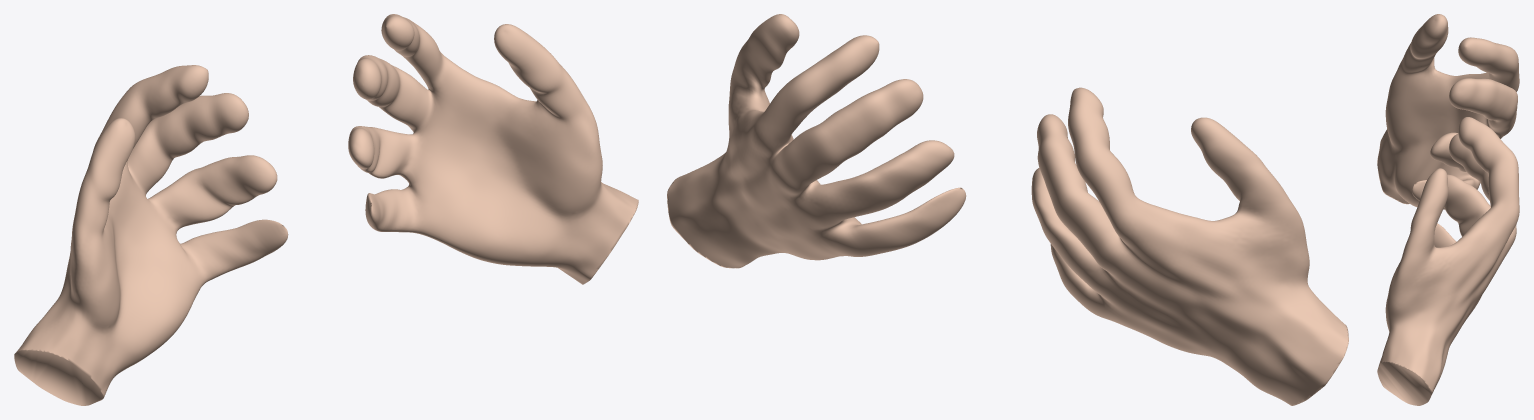
File: hands_flesh.glb
3 renders of one model, left to right at view 1: azimuth 30°, elevation 25°; view 2: azimuth 150°, elevation 25°; view 3: azimuth 270°, elevation 25°, orthographic. The views are drawn at different scales.
Parts seen in each view (by area): view 1: HandL, HandR; view 2: HandR, HandL; view 3: HandL, HandR.
Part boxes in pixels (left/top/right/bottom): HandL: left=348, top=14, right=638, bottom=284; HandR: left=14, top=65, right=288, bottom=405; HandR: left=1031, top=87, right=1348, bottom=405; HandL: left=667, top=14, right=966, bottom=268; HandL: left=1377, top=117, right=1519, bottom=405; HandR: left=1377, top=14, right=1519, bottom=209.
Bounding box in the file's own units: 1.35 × 0.5729 × 0.3272.
